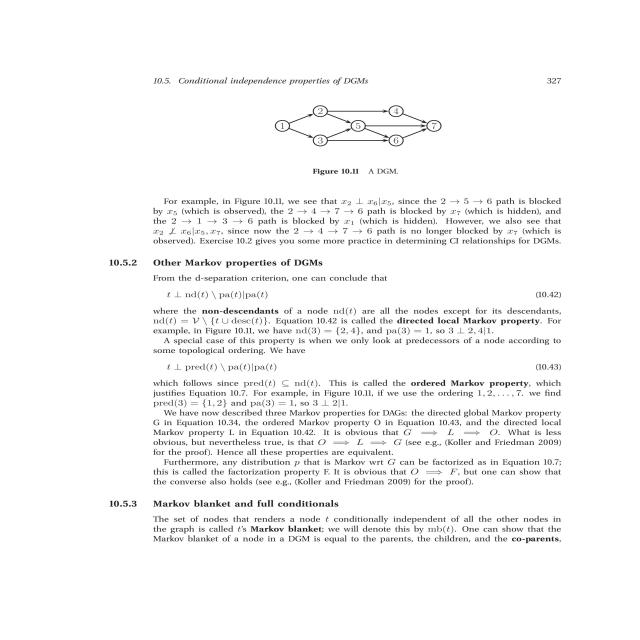diagram: (125, 73, 548, 184)
